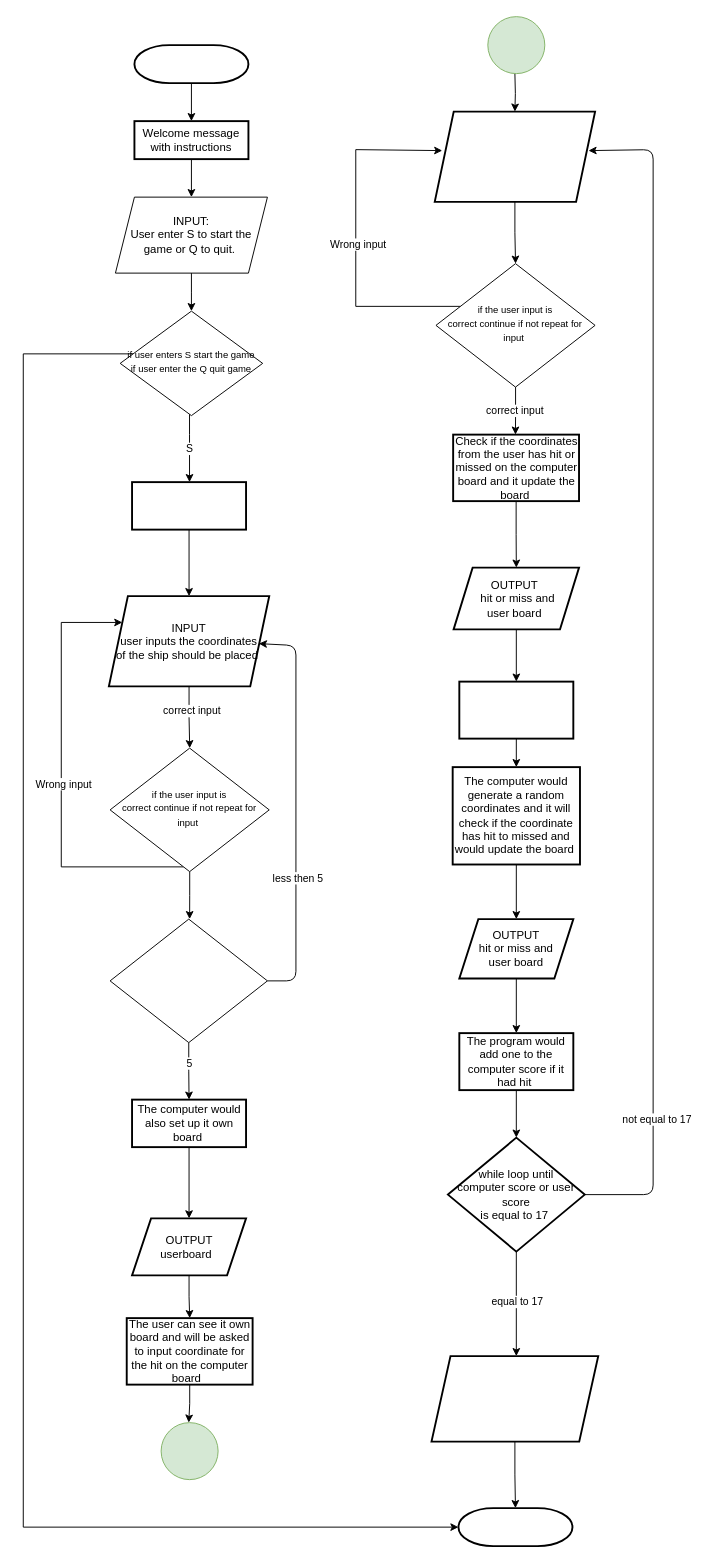
This 708x1564 diagram has some shape labels left out. Each missing label, with the centre of its shape:
END: pixel 515 1527
if amountShip is not equal to 5: pixel 188 980
INPUT Attack coordinates: pixel 514 156
OUTPUT The winner and then both of the boards: pixel 514 1398
Start: pixel 191 64
The program would add one to the user score if it had hit: pixel 516 709
The user would start setting up the 5 ships on the board: pixel 189 505
